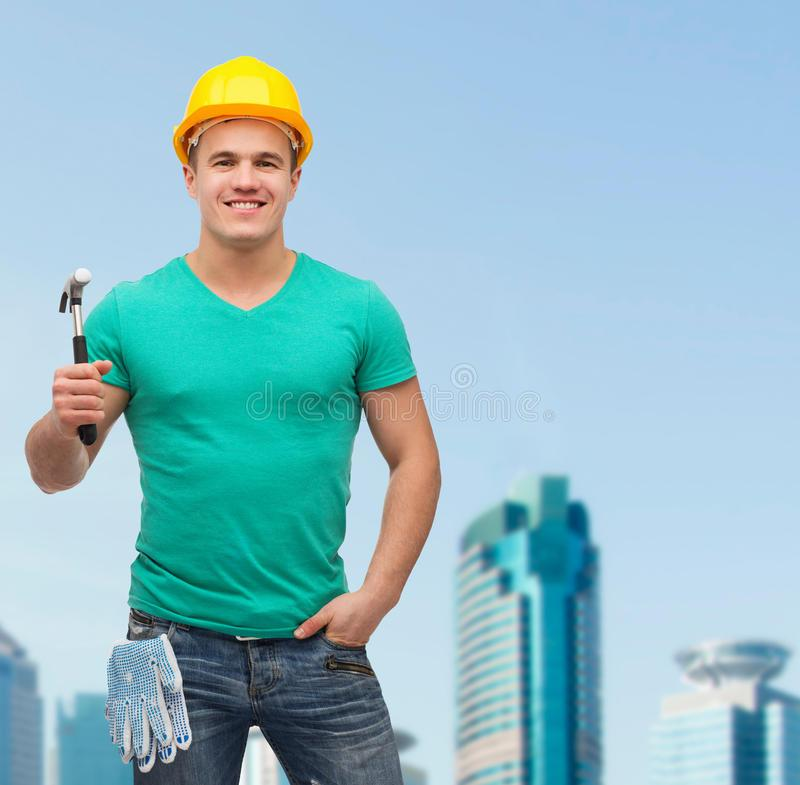helmet: (173, 56, 315, 171)
